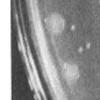white: (42, 11, 67, 37), (59, 59, 82, 87), (68, 23, 78, 34), (84, 41, 93, 53), (75, 44, 84, 54)
